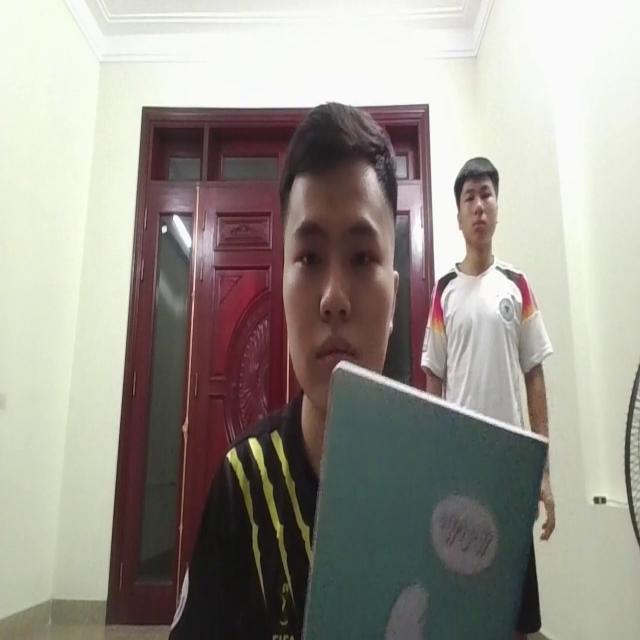book: (321, 355, 537, 640)
extra_person: (434, 142, 533, 428)
student: (278, 95, 397, 397)
